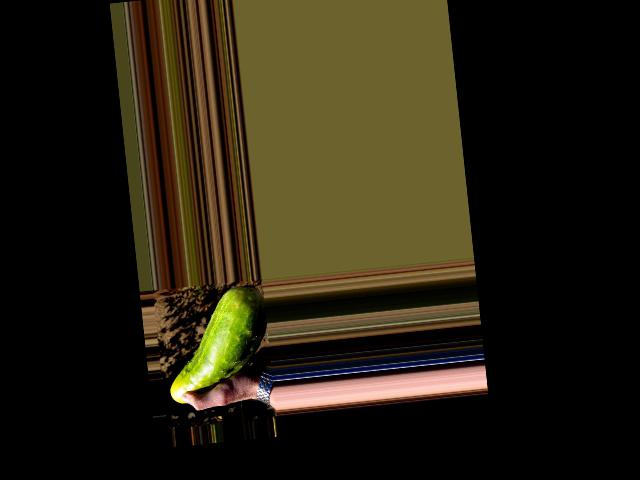cucumber: (160, 283, 275, 404)
